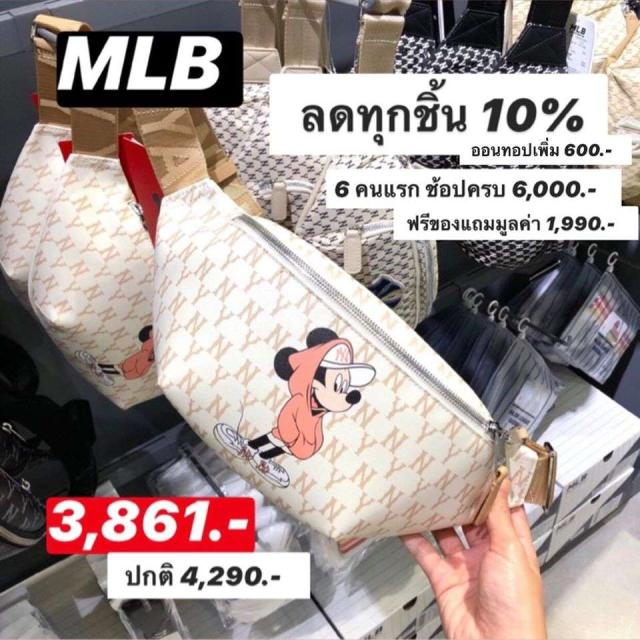Handbag: (142, 112, 558, 550)
